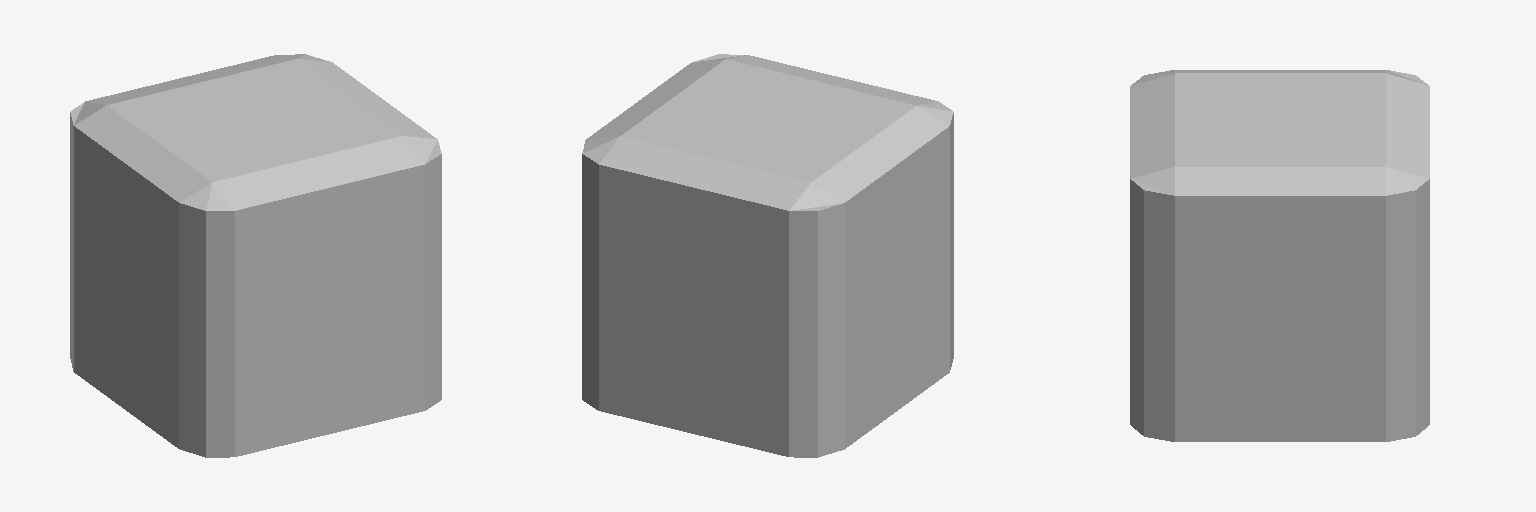
The model's file is brick.obj.
3 renders of one model, left to right at view 1: azimuth 30°, elevation 25°; view 2: azimuth 150°, elevation 25°; view 3: azimuth 270°, elevation 25°, orthographic.
Parts seen in each view (by area): view 1: Cube; view 2: Cube; view 3: Cube.
Boxes of the visible parts, x1,y1,x2,y2 form: Cube: [70, 54, 441, 457]; Cube: [582, 54, 953, 457]; Cube: [1130, 70, 1429, 441].
Bounding box in the file's own units: 1.98 × 1.98 × 1.98.